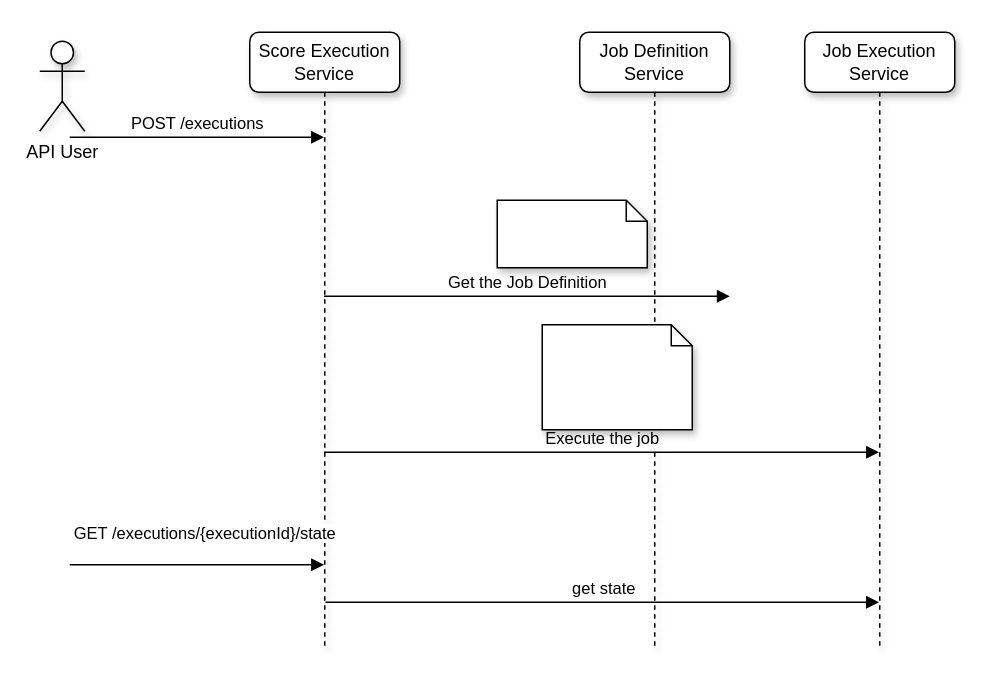
Image size: 990x684. Some labels were removed from this diagram. Each missing label, with the centre of its shape:
See below how the Job Definition is Selected.: the point at 573,235
See below how the Job Definition Parameter values are created.: the point at 618,378
